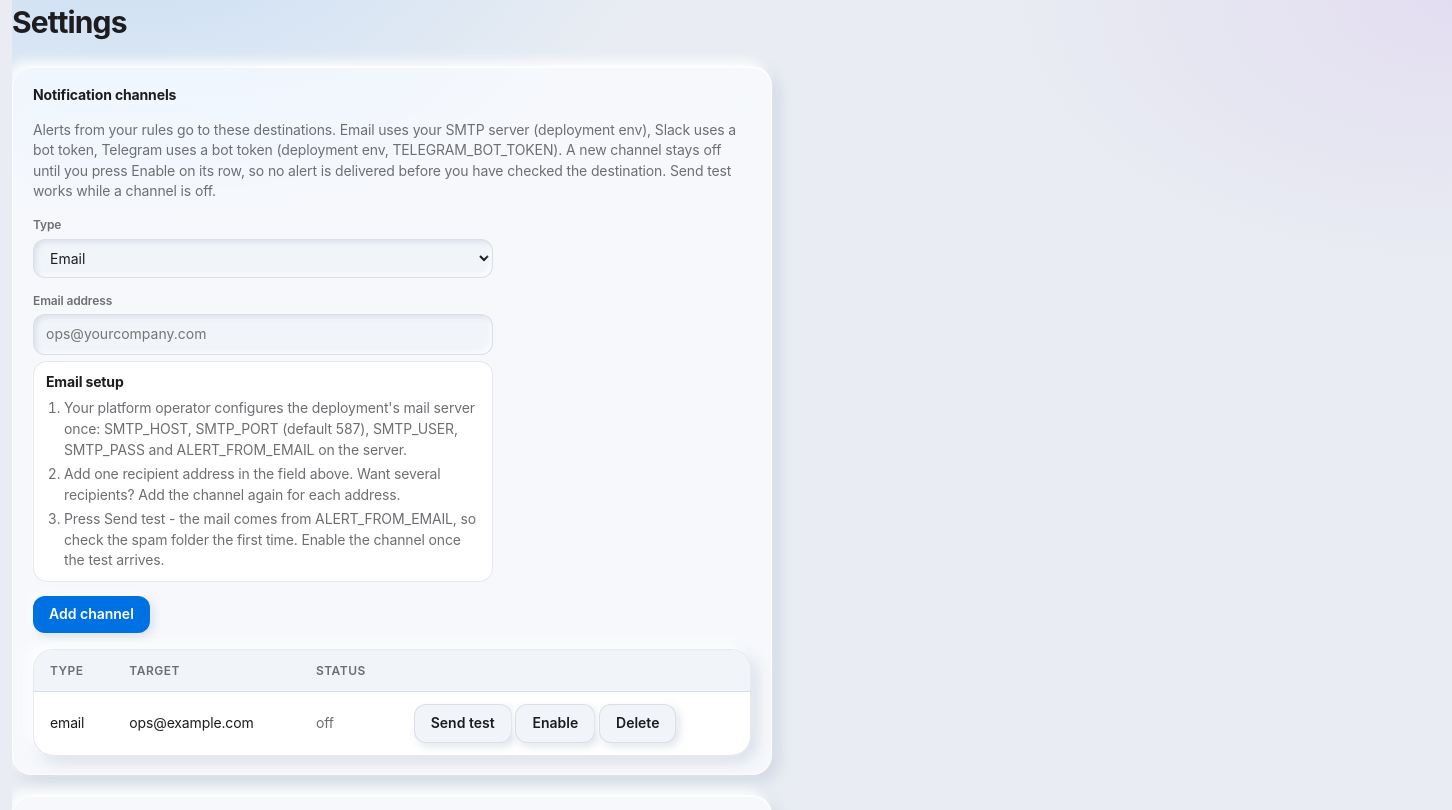
Test: successful test shows the result inline on the channel row, not only in the shared line
Click the button "Send test": coordinates (463, 724) [414, 704, 512, 743]
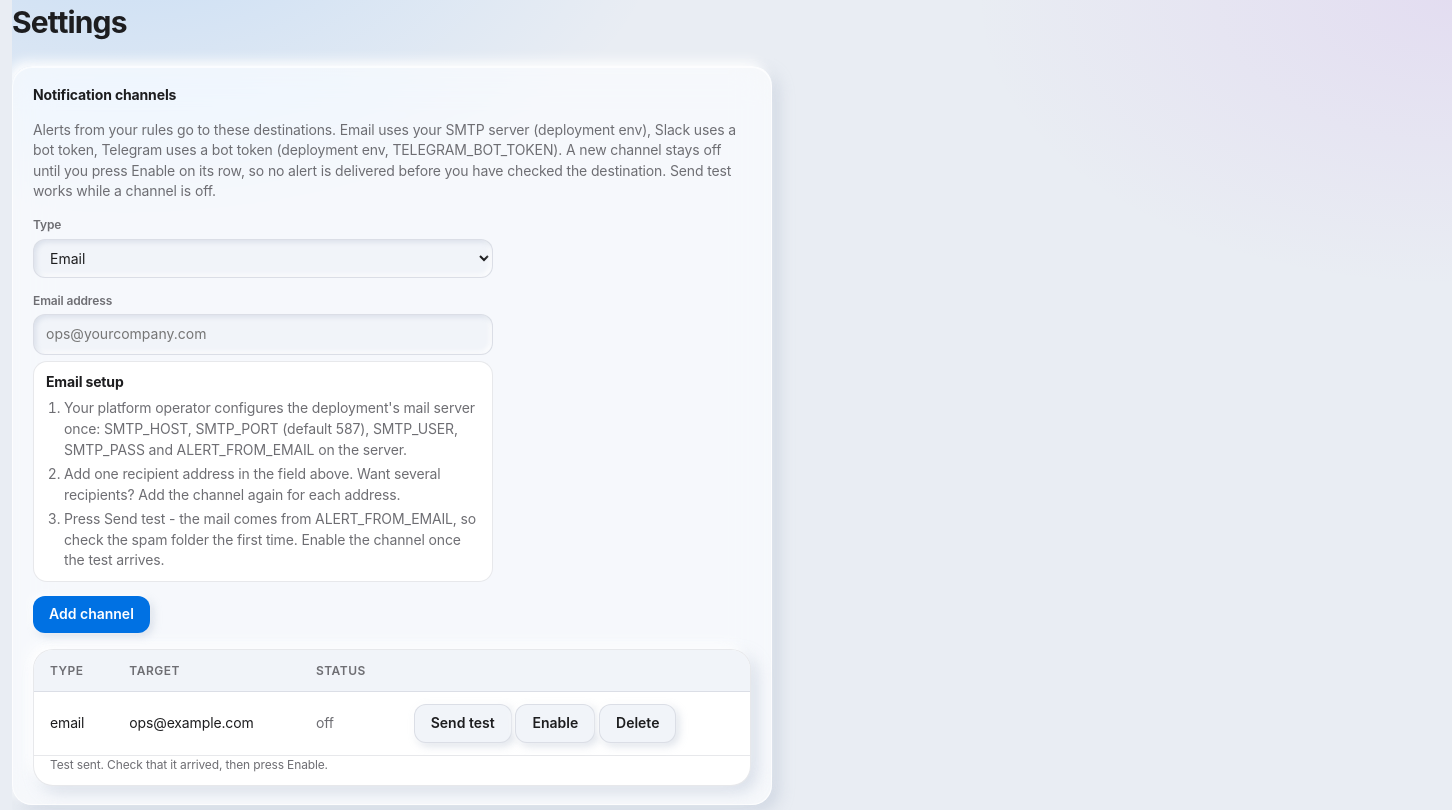
Now the message with test id "test-result-ch1" shows "Test sent", box [50, 757, 328, 772]
Now the message with test id "test-result-ch1" shows "Enable", box [50, 757, 328, 772]
